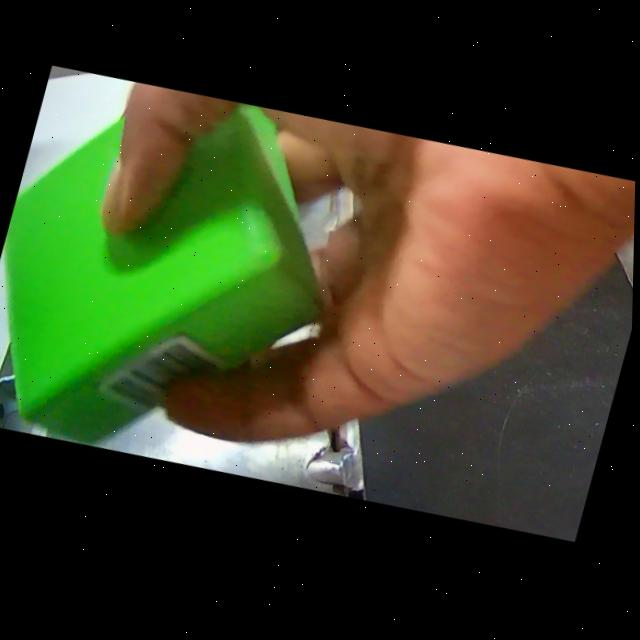greenBox: (0, 53, 377, 497)
